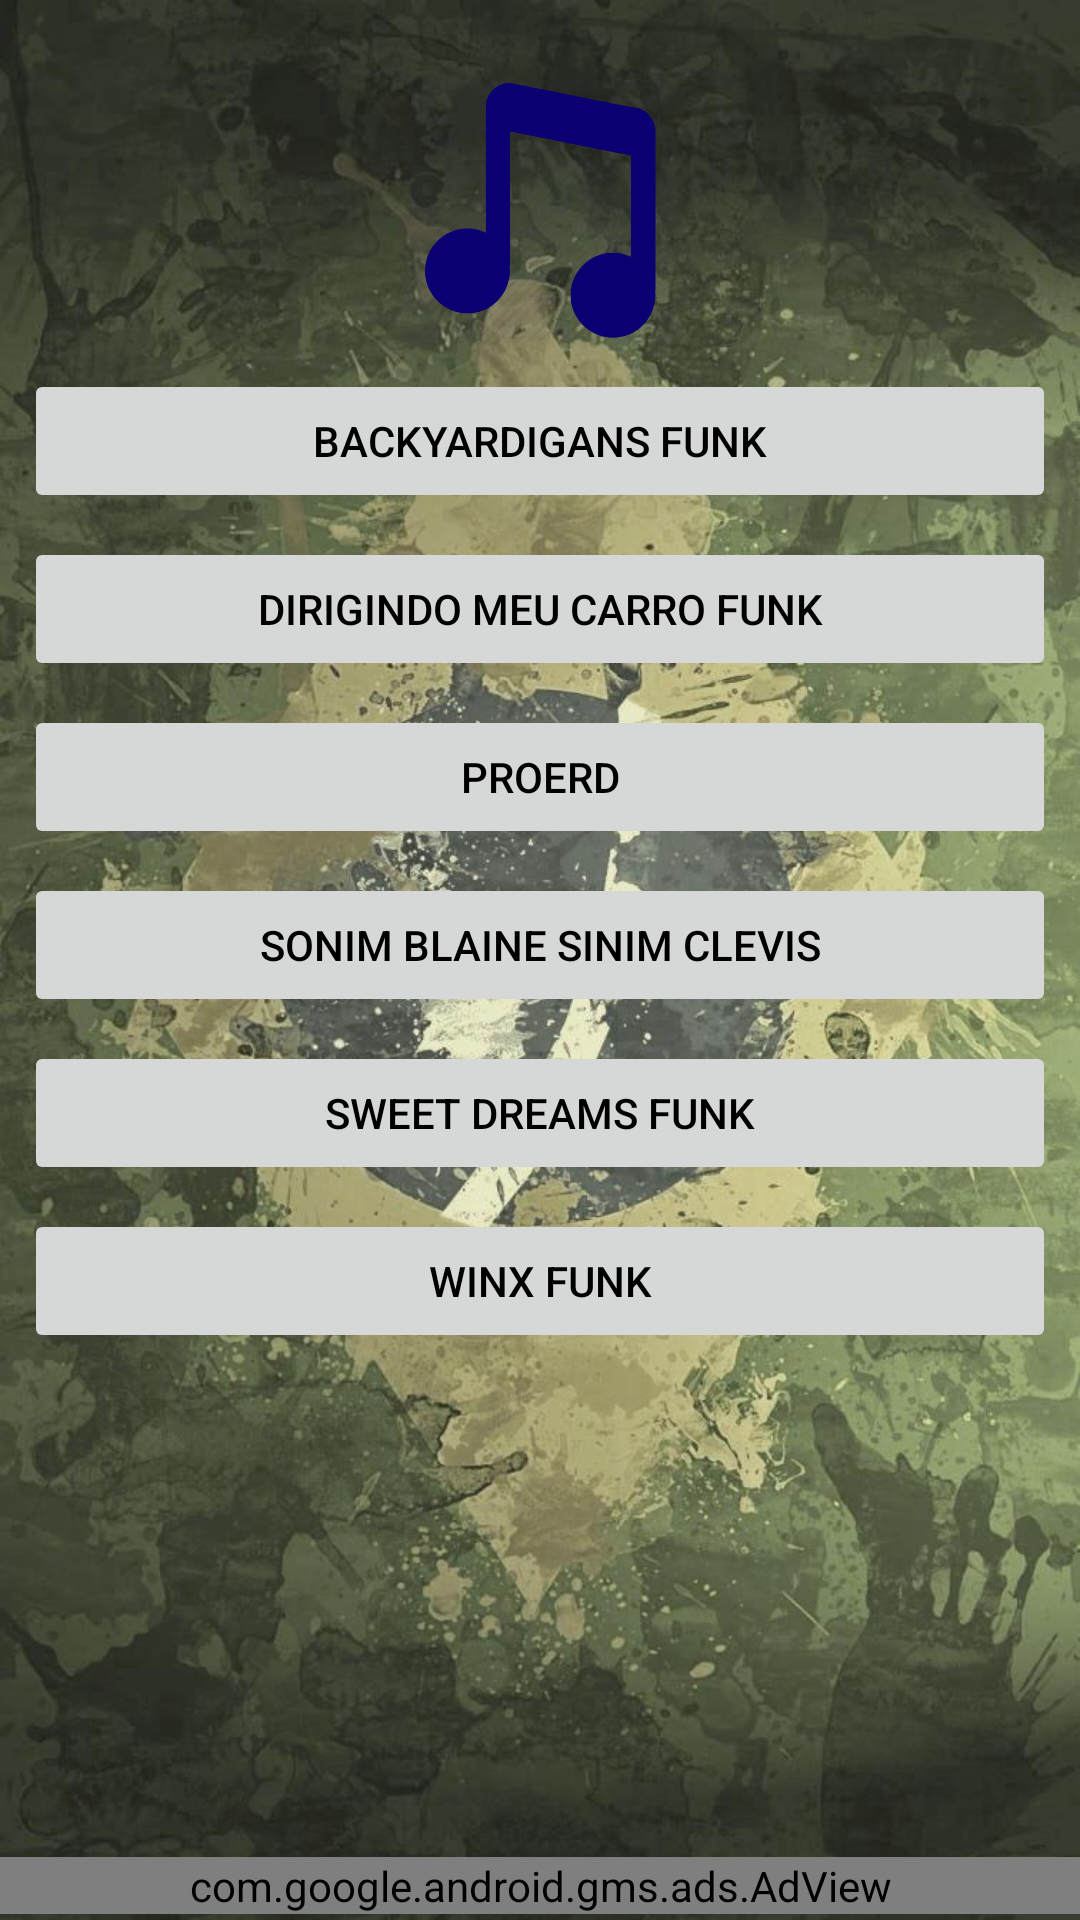

Point at icon controls on the screen. Image size 1080*1920, points as (x=x, y=y).
song: (x=540, y=210)
